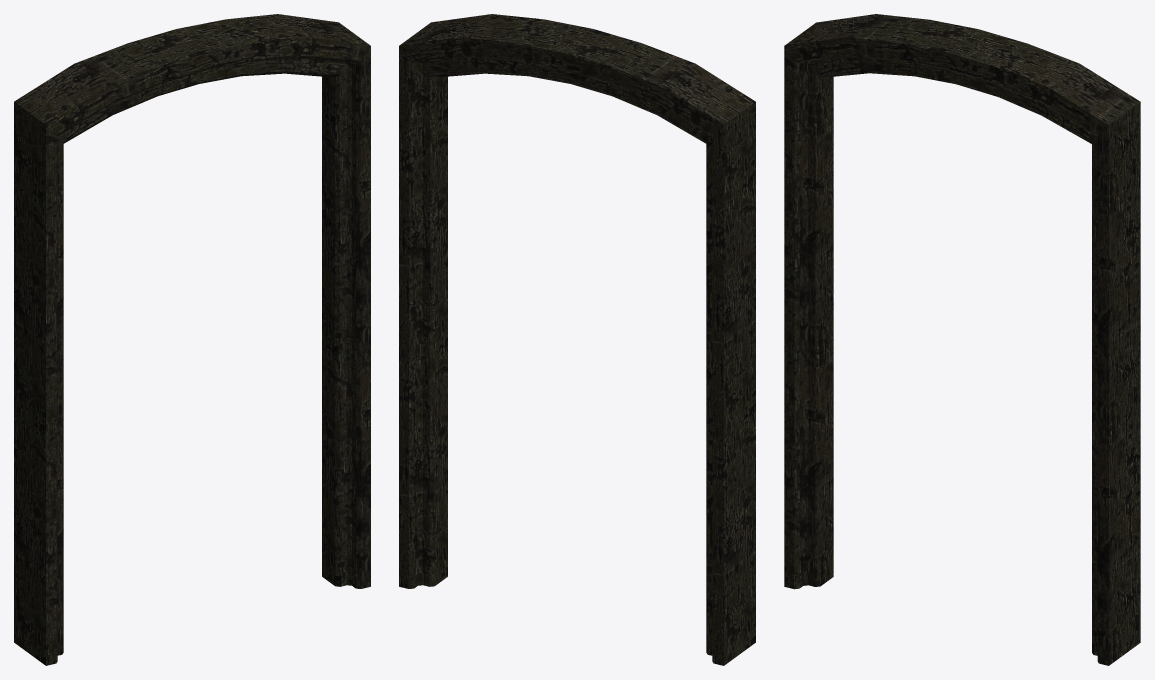
Rendered from factory_door_doorway.dae.
The picture shows the model from 3 angles, left to right: view 1: azimuth 30°, elevation 25°; view 2: azimuth 150°, elevation 25°; view 3: azimuth 330°, elevation 25°; orthographic projection.
Parts seen in each view (by area): view 1: polySurface1; view 2: polySurface1; view 3: polySurface1.
Part boxes in pixels (left/top/right/bottom): polySurface1: left=14, top=14, right=370, bottom=665; polySurface1: left=399, top=14, right=755, bottom=665; polySurface1: left=784, top=14, right=1140, bottom=665.
Bounding box in the file's own units: 2.2 × 3.71 × 0.3749.
1 material, 1 textured.
